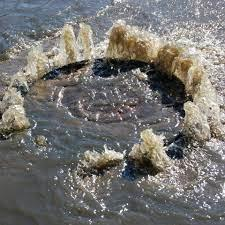drainage_overflow: (0, 28, 225, 192)
